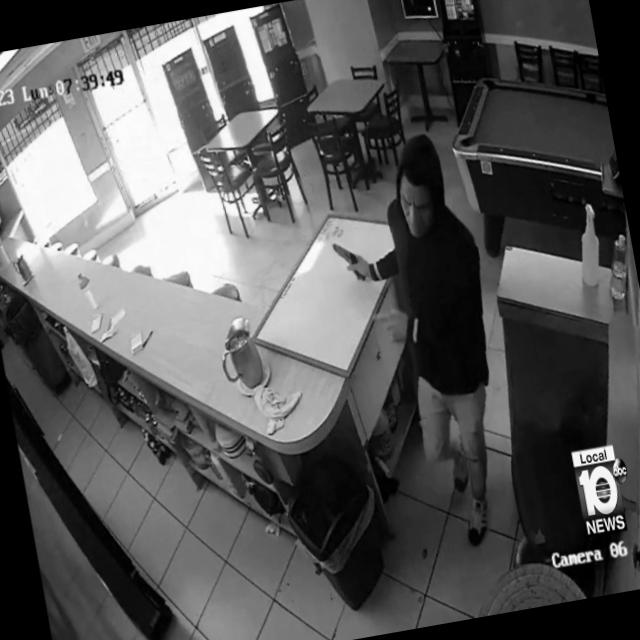gun: (330, 236, 370, 287)
person with a gun: (314, 126, 529, 561)
